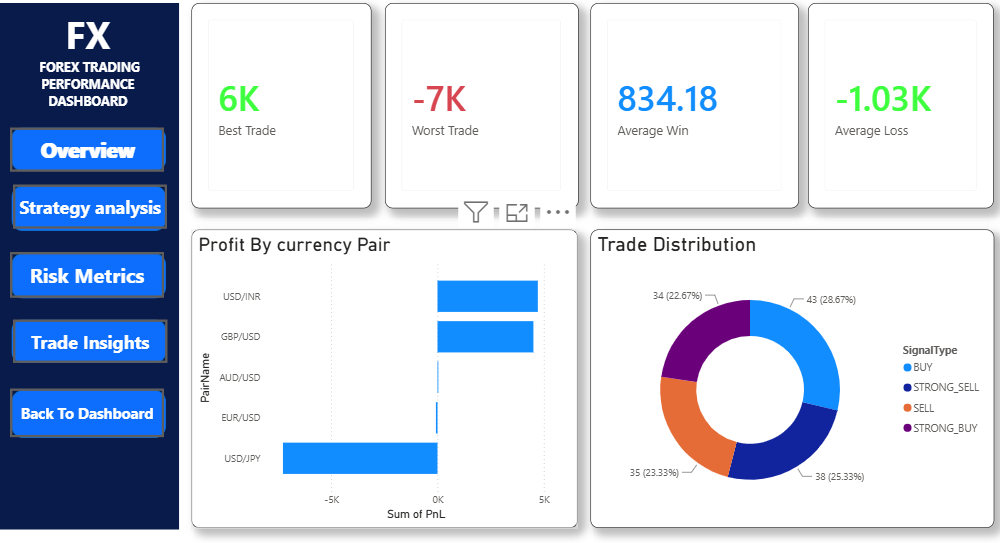

This screenshot's page, from the dashboard's own definition file:
{"tool":"powerbi","page":{"name":"Trade Insights","canvas":[1280,720],"ordinal":3},"visuals":[{"type":"textbox","box":[10,30,230,663.3],"z":0},{"type":"shape","box":[28.3,187.1,194.6,54.8],"z":1000},{"type":"actionButton","box":[26.5,187.1,198.4,54.8],"z":2000},{"type":"shape","box":[28.3,260.8,194.6,56.7],"z":3000},{"type":"actionButton","box":[28.3,258.9,196.5,58.6],"z":4000},{"type":"shape","box":[28.3,345.8,194.6,56.7],"z":5000},{"type":"actionButton","box":[28.3,343.9,196.5,58.6],"z":6000},{"type":"shape","box":[28.3,429,194.6,54.8],"z":7000},{"type":"actionButton","box":[28.3,429,196.5,54.8],"z":8000},{"type":"shape","box":[28.3,517.8,194.6,60.5],"z":9000},{"type":"actionButton","box":[28.3,515.9,196.5,62.4],"z":10000},{"type":"cardVisual","fields":{"Data":["trade_log.Best Trade"]},"box":[255.1,30.2,226.8,258.9],"z":11000},{"type":"cardVisual","fields":{"Data":["trade_log.Worst Trade"]},"box":[498.9,30.2,243.8,258.9],"z":12000},{"type":"cardVisual","fields":{"Data":["trade_log.Average Win"]},"box":[757.8,30.2,262.7,258.9],"z":13000},{"type":"cardVisual","fields":{"Data":["trade_log.Average Loss"]},"box":[1031.8,30.2,234.3,258.9],"z":14000},{"type":"clusteredBarChart","title":"Profit By currency Pair","fields":{"Category":["trade_log.PairName"],"Y":["Sum(trade_log.PnL)"]},"box":[254.3,315.2,487,376.1],"z":15000},{"type":"donutChart","title":"Trade Distribution","fields":{"Category":["trade_log.SignalType"],"Y":["CountNonNull(trade_log.TradeID)"]},"box":[758.7,315.2,508.7,376.1],"z":16000}]}

Visuals, with their boxes on the page's 1280x720 design canvas (x1, y1, x2, y2). These are canvas units, not pixel positions in the 1000x543 screenshot, which may show the page scaled, cropped or inside an application window:
textbox: 10:30:240:693
shape: 28:187:223:242
actionButton: 26:187:225:242
shape: 28:261:223:318
actionButton: 28:259:225:318
shape: 28:346:223:402
actionButton: 28:344:225:402
shape: 28:429:223:484
actionButton: 28:429:225:484
shape: 28:518:223:578
actionButton: 28:516:225:578
cardVisual - trade_log.Best Trade: 255:30:482:289
cardVisual - trade_log.Worst Trade: 499:30:743:289
cardVisual - trade_log.Average Win: 758:30:1020:289
cardVisual - trade_log.Average Loss: 1032:30:1266:289
"Profit By currency Pair" clusteredBarChart: 254:315:741:691
"Trade Distribution" donutChart: 759:315:1267:691
